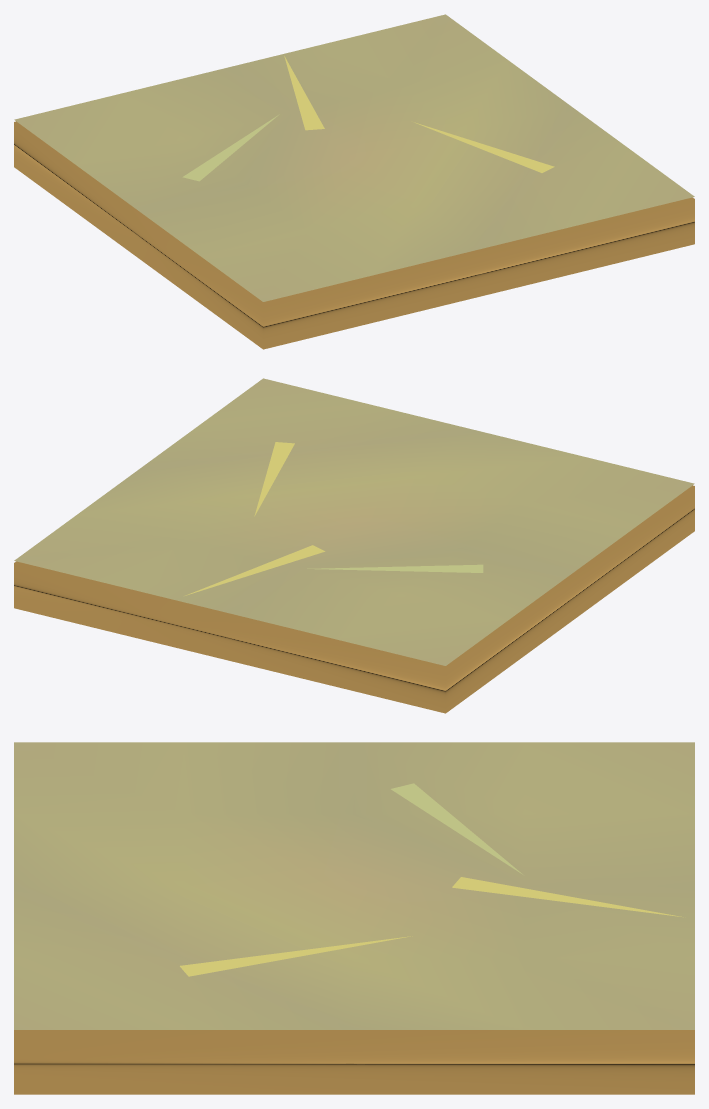
The model's file is tile_dune_grass.glb.
3 views of the same model, one above another, from view 1: azimuth 30°, elevation 25°; view 2: azimuth 150°, elevation 25°; view 3: azimuth 270°, elevation 25° (orthographic). The views are drawn at different scales.
Parts seen in each view (by area): view 1: Tile.001; view 2: Tile.001; view 3: Tile.001.
Boxes of the visible parts, x1=… form: Tile.001: x1=14, y1=14, x2=694, y2=349; Tile.001: x1=14, y1=378, x2=694, y2=713; Tile.001: x1=14, y1=742, x2=694, y2=1094.
Bounding box in the file's own units: 1 × 0.109 × 1.
